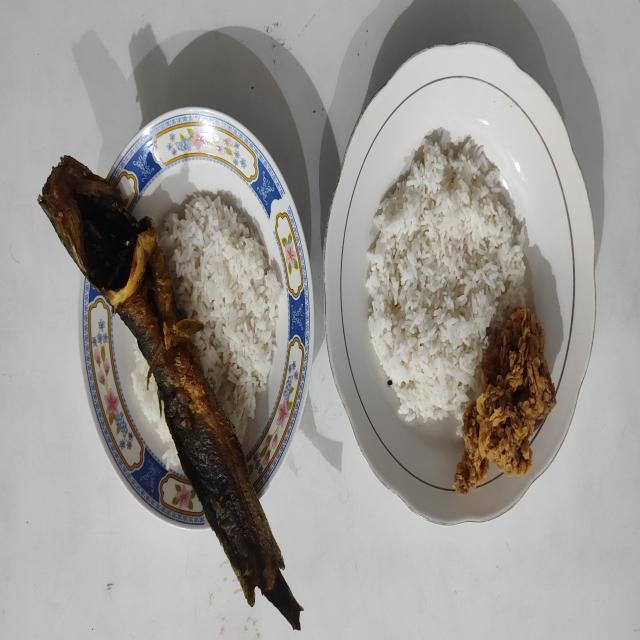nasi_putih: (366, 130, 527, 431), (158, 193, 284, 442), (130, 340, 183, 474)
